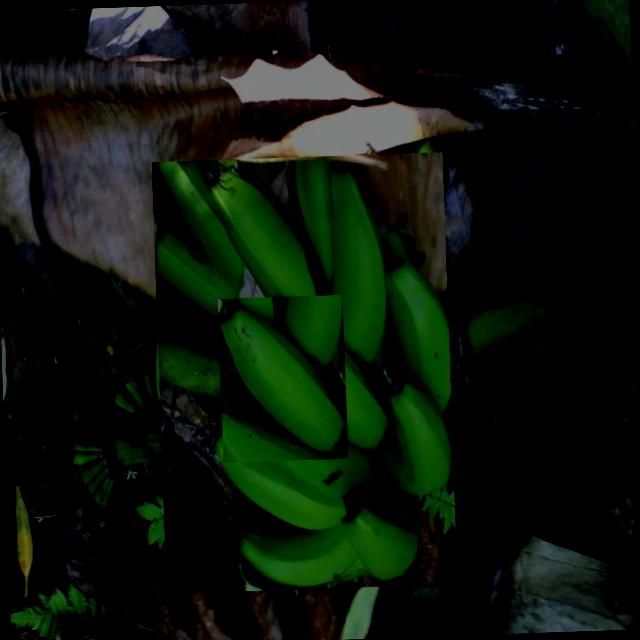Banana: (152, 152, 458, 594)
